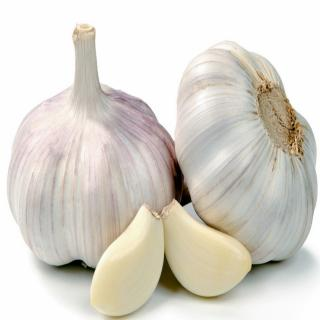Bawang Putih: (8, 21, 318, 316)
